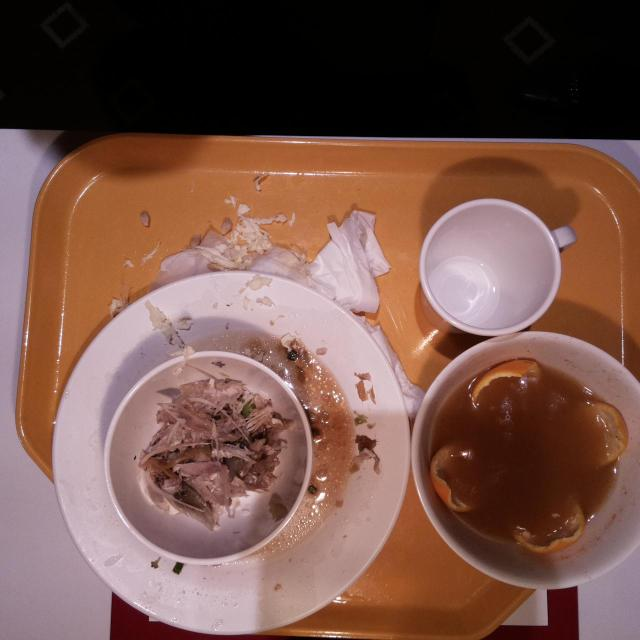Bone-fish: (144, 388, 276, 526)
Orange-peel: (512, 486, 586, 558), (469, 356, 542, 426), (557, 400, 627, 472), (424, 442, 492, 514)
